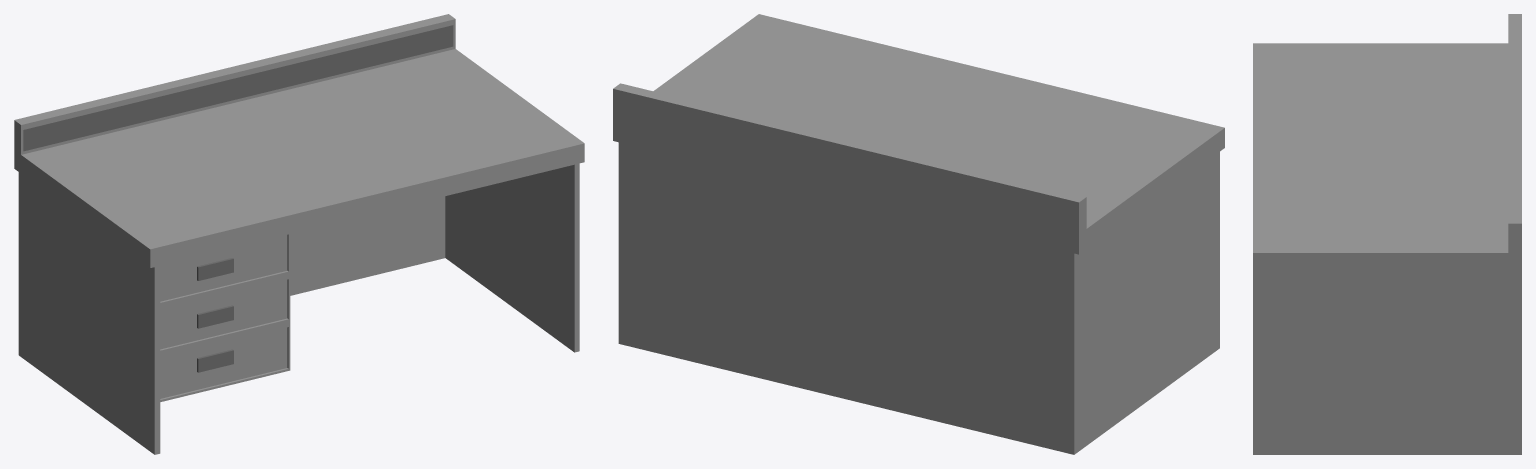
Rendered from Table.fbx.
3 views of the same model, side by side, from view 1: azimuth 30°, elevation 25°; view 2: azimuth 150°, elevation 25°; view 3: azimuth 270°, elevation 25° (orthographic). The views are drawn at different scales.
Visible parts, largest first — view 1: Table; view 2: Table; view 3: Table.
Boxes of the visible parts, left/top/right/bottom form: Table: left=14, top=14, right=584, bottom=454; Table: left=613, top=14, right=1224, bottom=454; Table: left=1253, top=14, right=1521, bottom=454.
Bounding box in the file's own units: 599 × 312 × 325.
